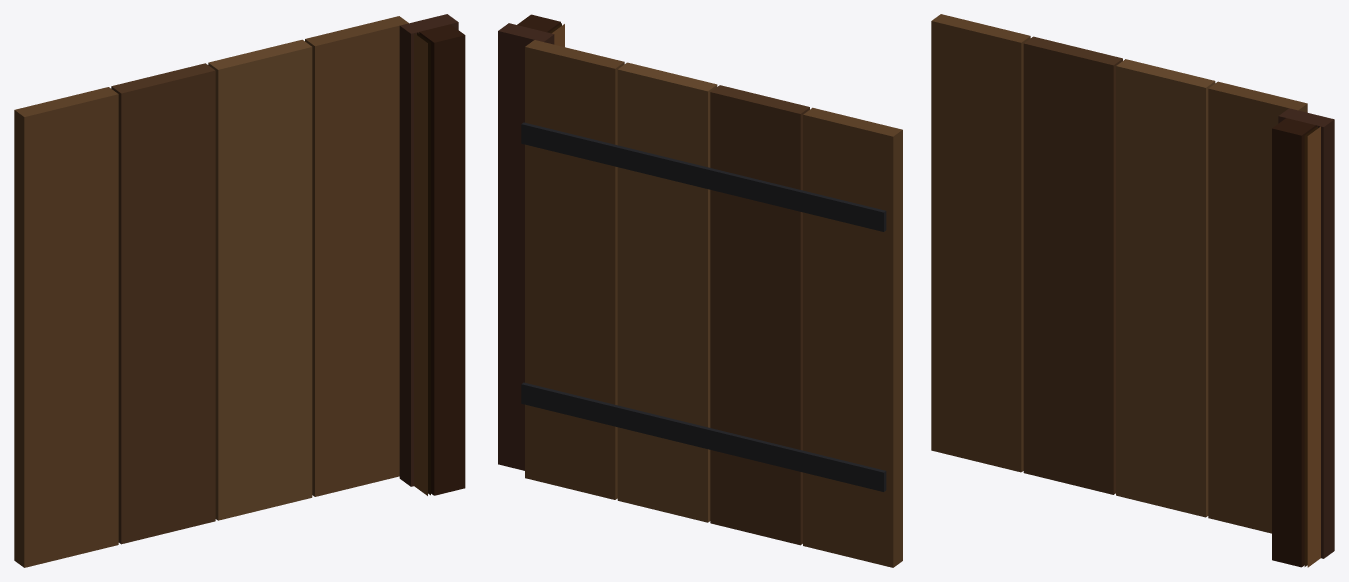
File: wall-timber-door-open-low-r.glb
The picture shows the model from 3 angles, left to right: view 1: azimuth 30°, elevation 25°; view 2: azimuth 150°, elevation 25°; view 3: azimuth 330°, elevation 25°; orthographic projection. The views are drawn at different scales.
Parts seen in each view (by area): view 1: wall-timber-door-open-low-r; view 2: wall-timber-door-open-low-r; view 3: wall-timber-door-open-low-r.
Part boxes in pixels (<box>): wall-timber-door-open-low-r: <box>14,14,465,567</box>; wall-timber-door-open-low-r: <box>498,14,902,567</box>; wall-timber-door-open-low-r: <box>931,14,1334,567</box>.
Size of the model in its own units: 0.977 by 1 by 0.155.
